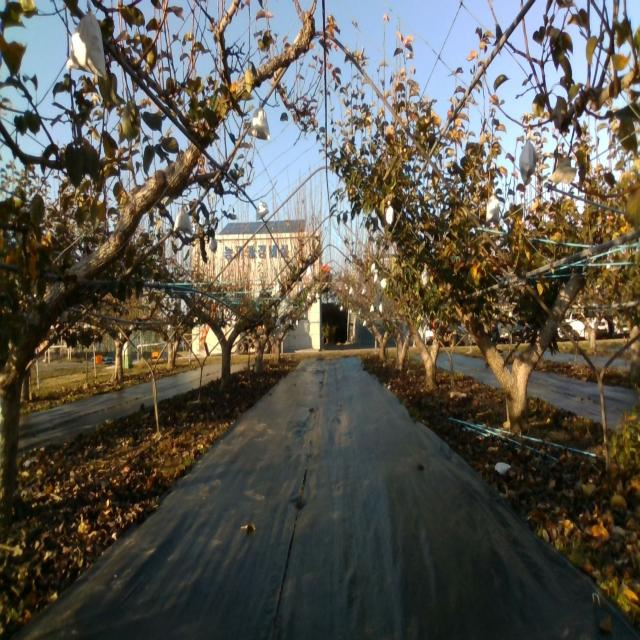pearbags: (67, 10, 107, 78), (246, 105, 272, 142), (520, 139, 538, 185), (174, 206, 193, 234), (486, 194, 499, 226), (255, 201, 269, 219)
